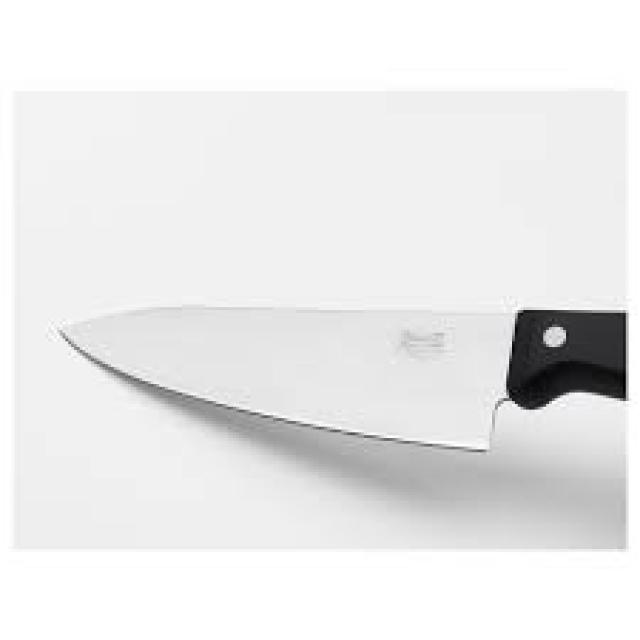Knife: (54, 302, 626, 452)
